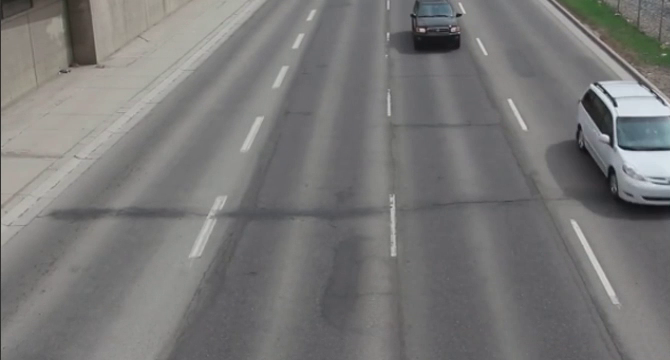car: (575, 78, 670, 212), (411, 1, 464, 49)
